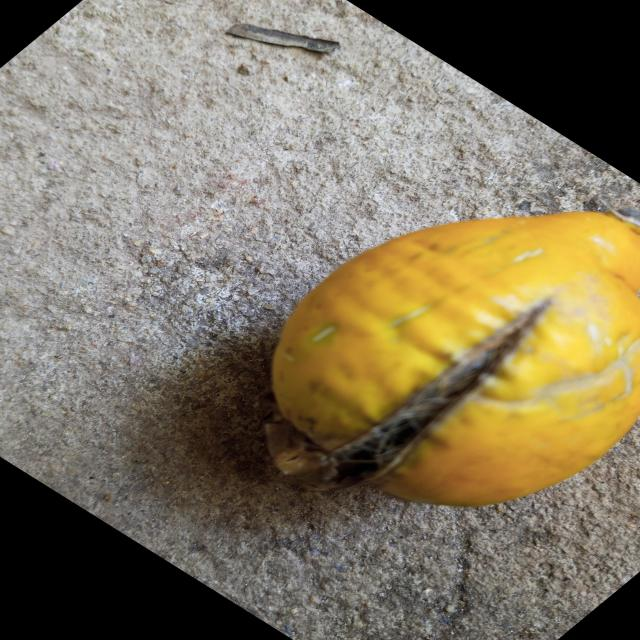damaged: (269, 213, 640, 509)
